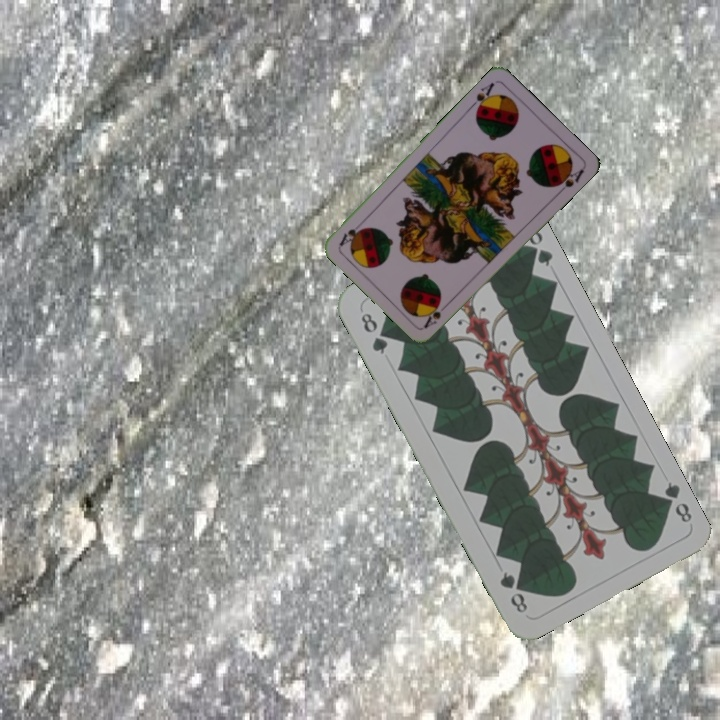G8: (655, 477, 695, 526), (356, 308, 391, 357)
SA: (466, 78, 498, 115), (420, 298, 453, 330)
